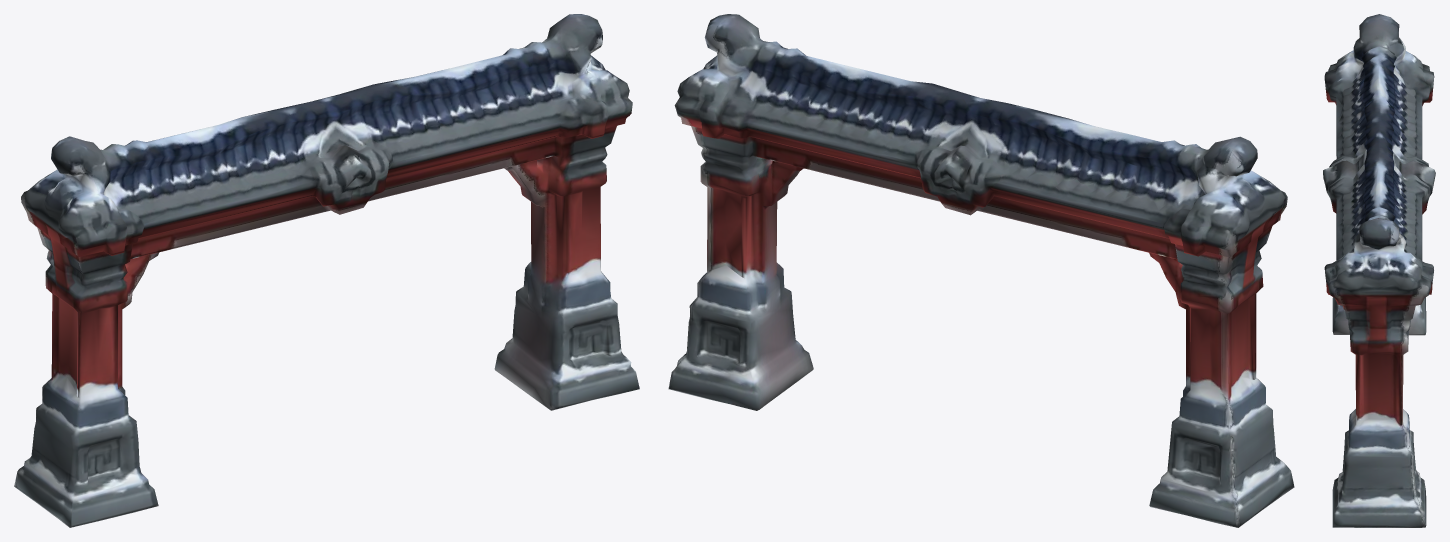
The model's file is SM_Env_FrostGate.glb.
3 views of the same model, side by side, from view 1: azimuth 30°, elevation 25°; view 2: azimuth 150°, elevation 25°; view 3: azimuth 270°, elevation 25° (orthographic). The views are drawn at different scales.
Parts seen in each view (by area): view 1: SM_Env_FrostGate_LOD0; view 2: SM_Env_FrostGate_LOD0; view 3: SM_Env_FrostGate_LOD0.
Boxes of the visible parts, left/top/right/bottom form: SM_Env_FrostGate_LOD0: left=14, top=14, right=639, bottom=527; SM_Env_FrostGate_LOD0: left=668, top=14, right=1294, bottom=527; SM_Env_FrostGate_LOD0: left=1323, top=14, right=1435, bottom=527.
Size of the model in its own units: 10.92 by 6.59 by 2.28.
1 material, 1 textured.
